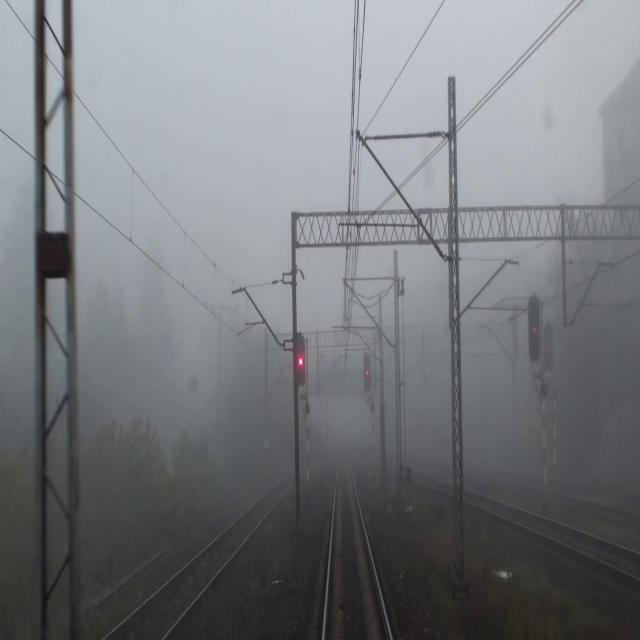rail-track: (111, 479, 289, 639), (479, 500, 640, 572), (327, 463, 387, 639)
